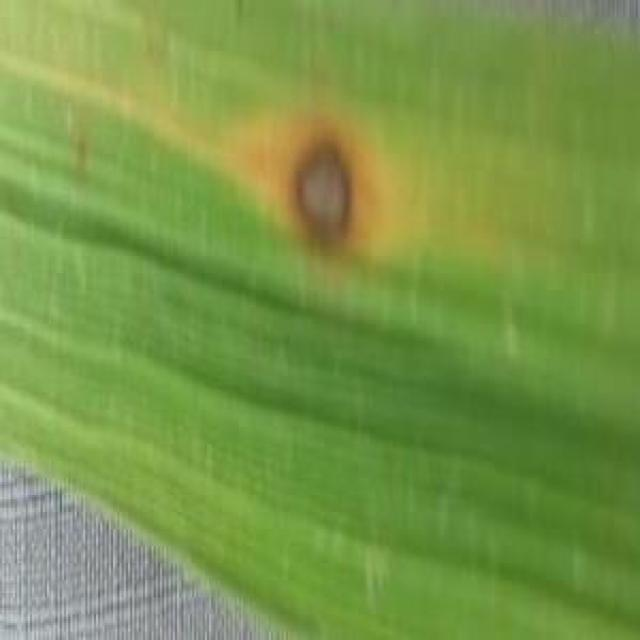brownspots: (273, 138, 388, 252)
